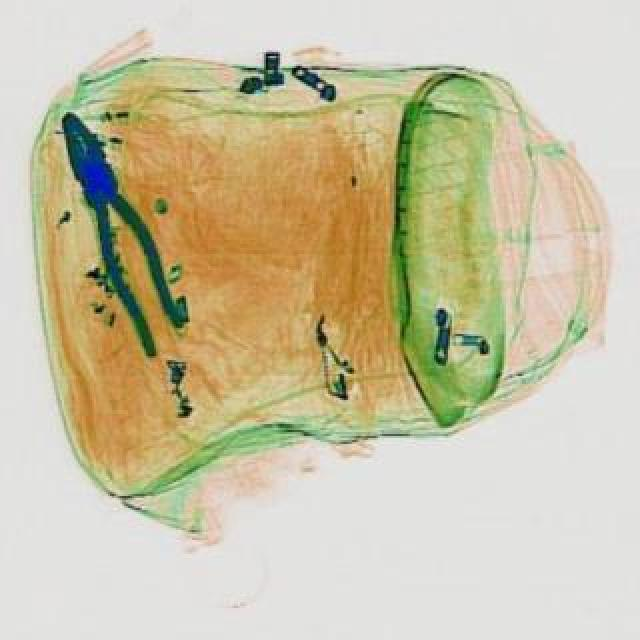wrench: (44, 102, 200, 354)
